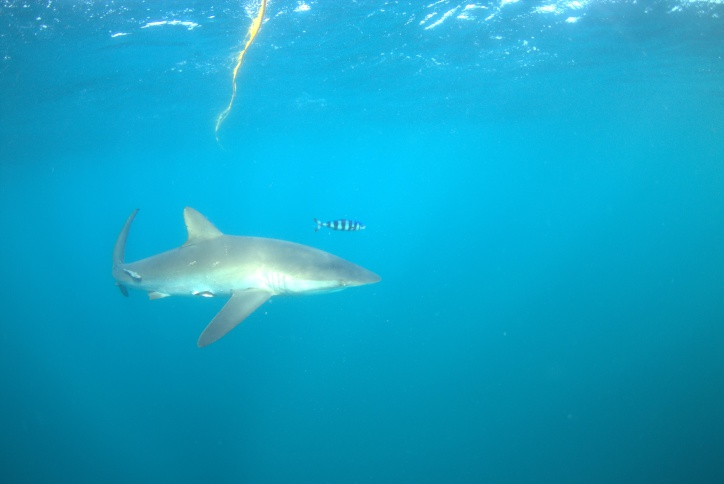Sedoso: (84, 193, 391, 358)
